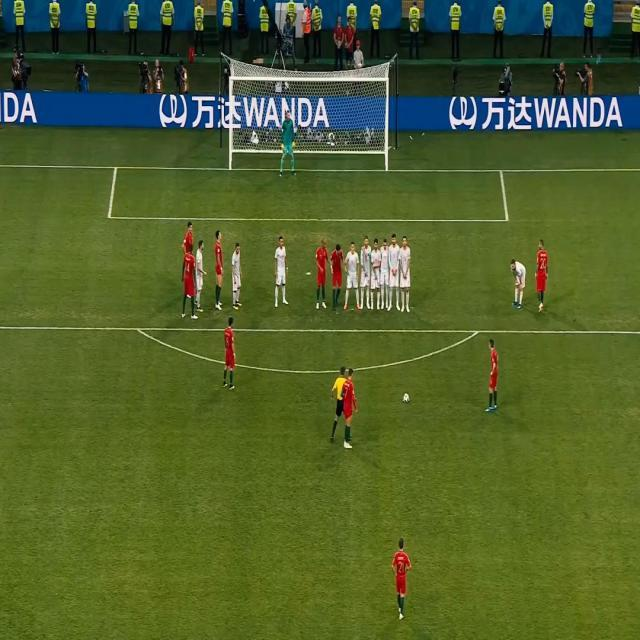ball: (401, 389, 411, 406)
goalkeeper: (276, 106, 301, 179)
player: (389, 532, 415, 620), (220, 315, 241, 393), (341, 363, 359, 452), (532, 235, 551, 313), (271, 233, 290, 309), (484, 335, 501, 413), (342, 241, 360, 313), (182, 242, 198, 323), (398, 234, 414, 315), (313, 236, 330, 310), (506, 255, 528, 311), (212, 227, 226, 313), (330, 240, 346, 310), (388, 232, 401, 312), (359, 237, 373, 310), (230, 240, 244, 310), (195, 237, 207, 313), (370, 238, 382, 311), (379, 237, 390, 308), (182, 221, 196, 253)
referee: (329, 365, 348, 445)
